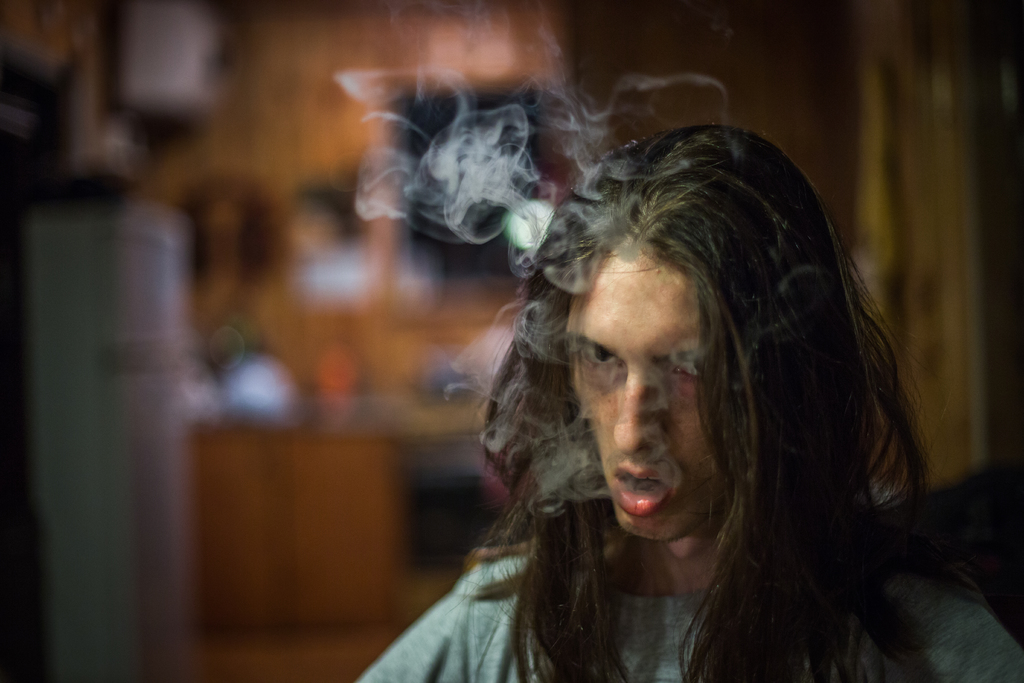Person: (353, 122, 1023, 682)
